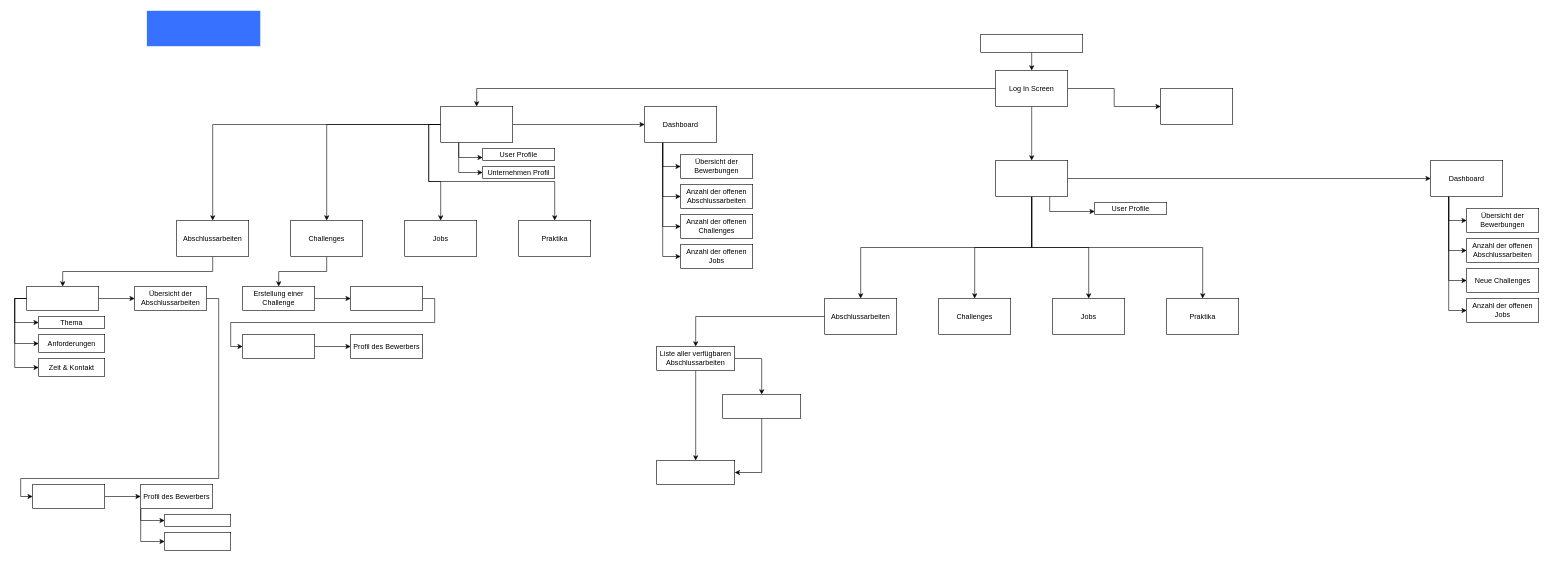
The diagram is 1549 pixels wide and 561 high, and some of its shapes have lost their labels. The centre of each missing label's shape, as x and y in pixels:
"Bewerbung auf eine Abschlussarbeit" goes at (761,406).
"Erfolgreiche Challenges" goes at (197,541).
"Erstellung einer Abschlussarbeit" goes at (62,298).
"Fit4Prax" goes at (1031,43).
"Lebenslauf" goes at (197,520).
"Liste der aktiven Bewerbungen" goes at (695,472).
"Professoren / Universitäten" goes at (1196,106).
"Statisik zu den Challenges" goes at (278,346).
"Studenten" goes at (1031,178).
"Unternehmen" goes at (476,124).
"Webseiten Übersicht:" goes at (203,28).
"Übersicht Bewerber einer Abschlussarbeit" goes at (68,496).
"Übersicht der Challenges" goes at (386,298).
